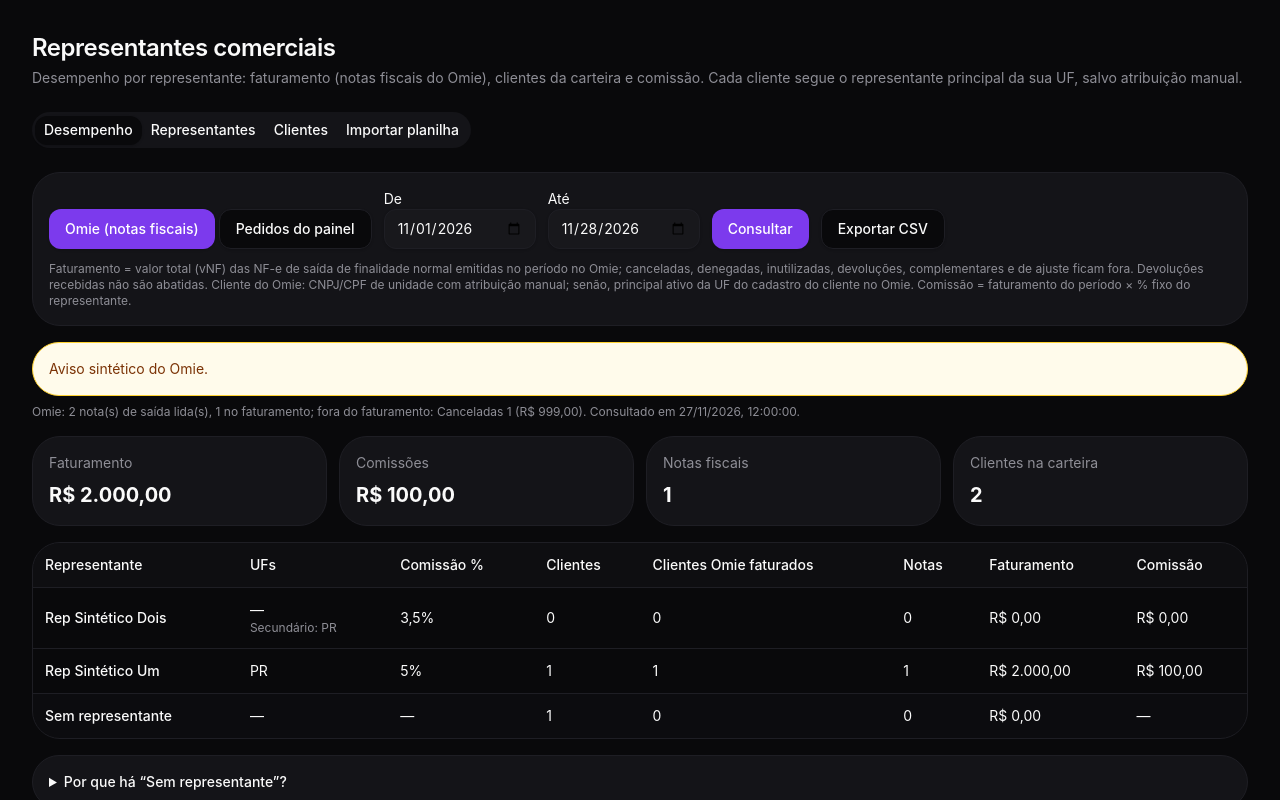
atribui cliente manualmente com motivo
Later steps or results of the test are not shown.
Click the tab "Clientes". click: (301,130)
box: 265,116 -> 337,144
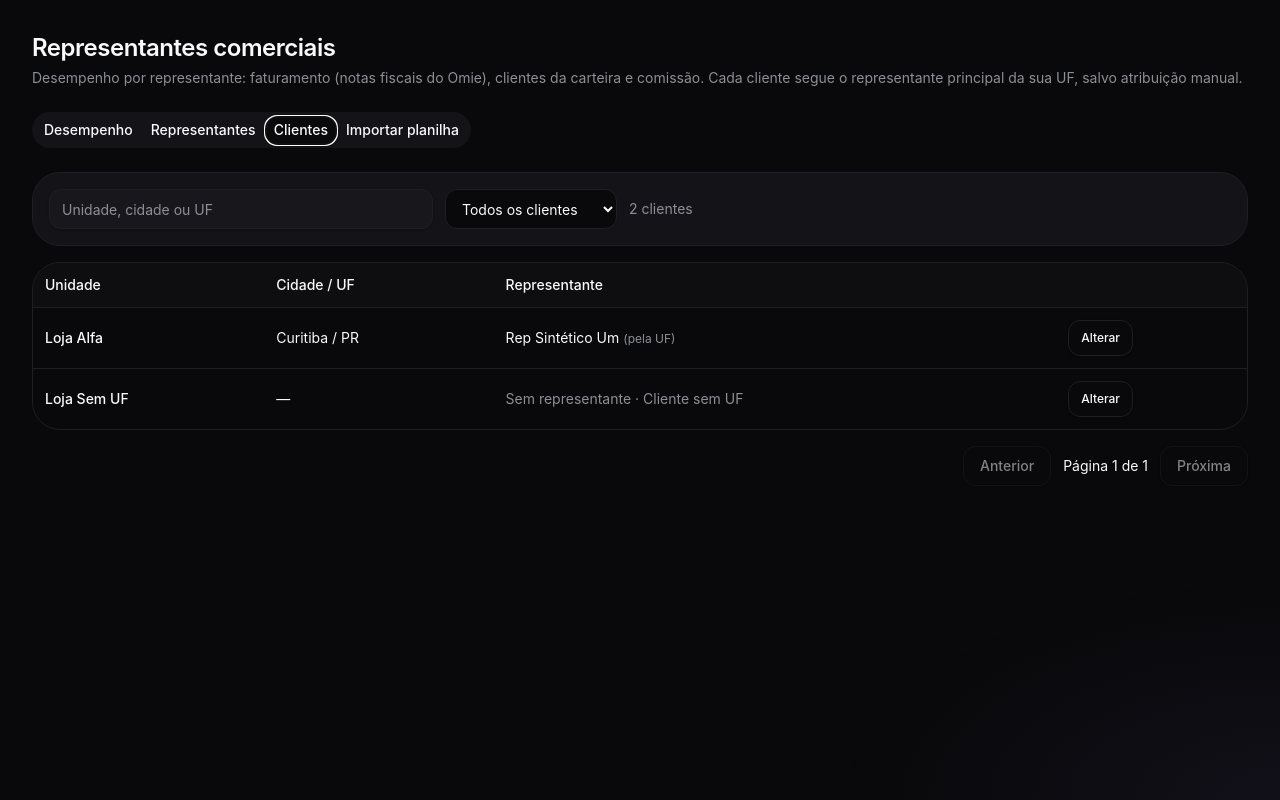
expect the text "Loja Alfa" reads "Loja Alfa Curitiba / PR Rep Sintético Um(pela UF) Alterar": met, box 33,308 -> 1247,368
expect the text "Loja Sem UF" shows "Cliente sem UF": met, box 643,390 -> 743,407
